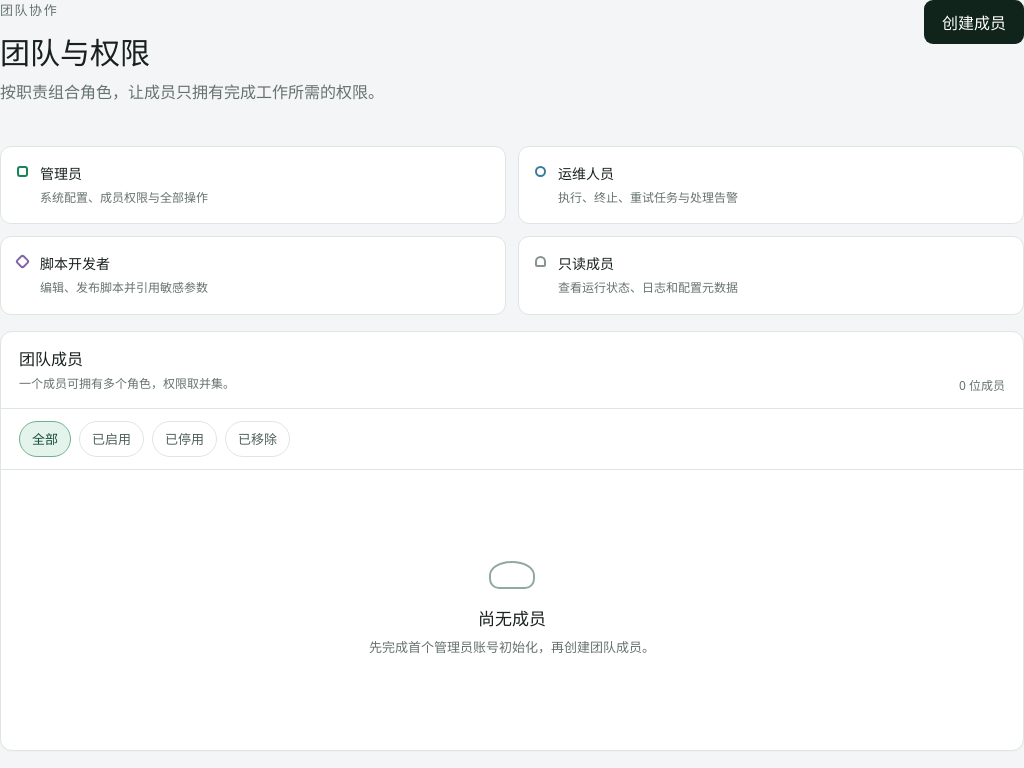
团队与权限 › 管理员创建成员后只显示一次临时密码并可复制
Click the button "创建成员": (974, 22) [924, 0, 1023, 44]
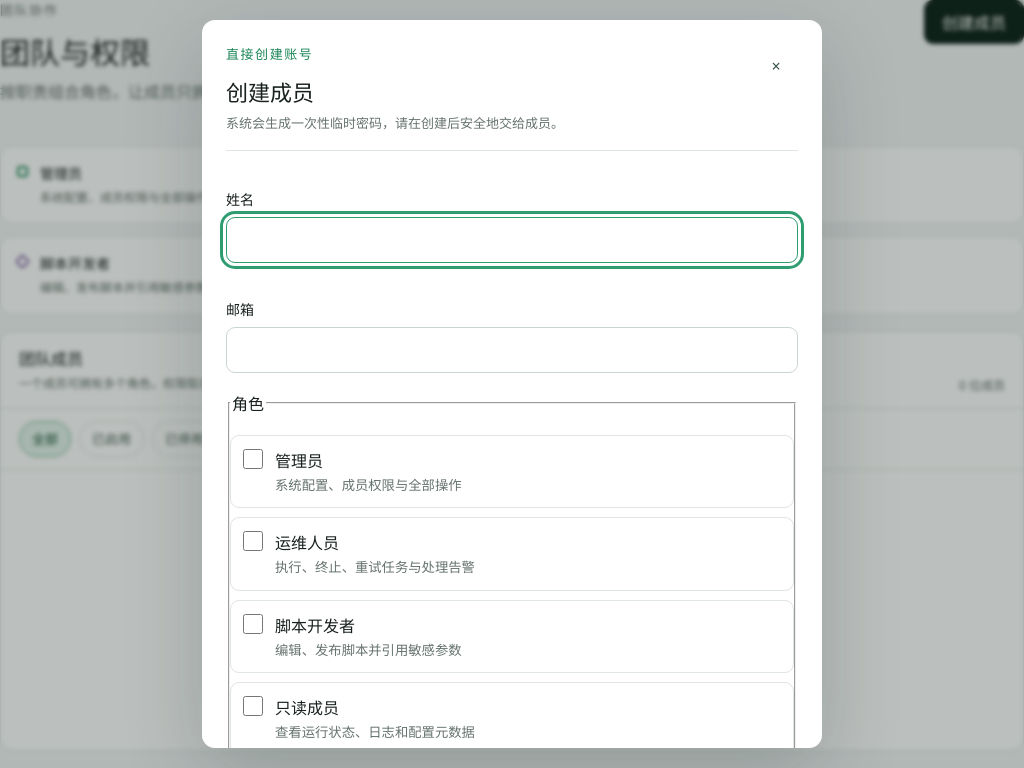
In the field labelled "姓名": (512, 240) [226, 217, 798, 263], type "值班运维"
In the field labelled "邮箱": (512, 350) [226, 327, 798, 373], type "ops@example.com"
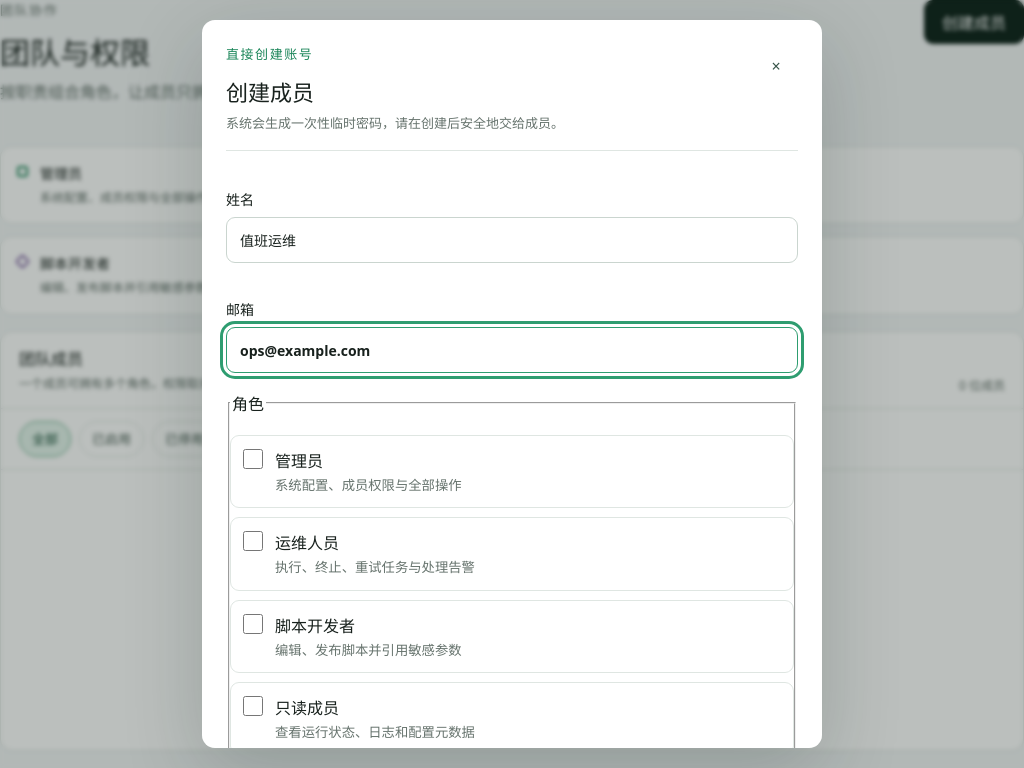
Click the checkbox labelled "运维人员": (253, 541) [243, 531, 263, 551]
(page scrolled)
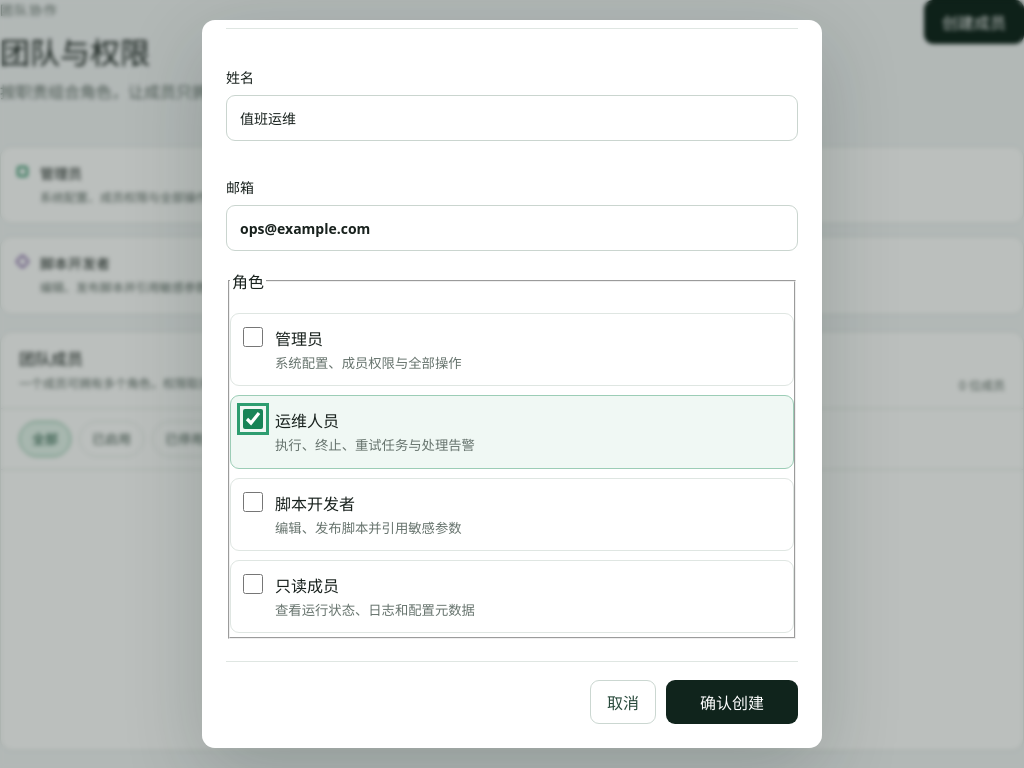
Click the button "确认创建": (732, 702) [666, 680, 798, 724]
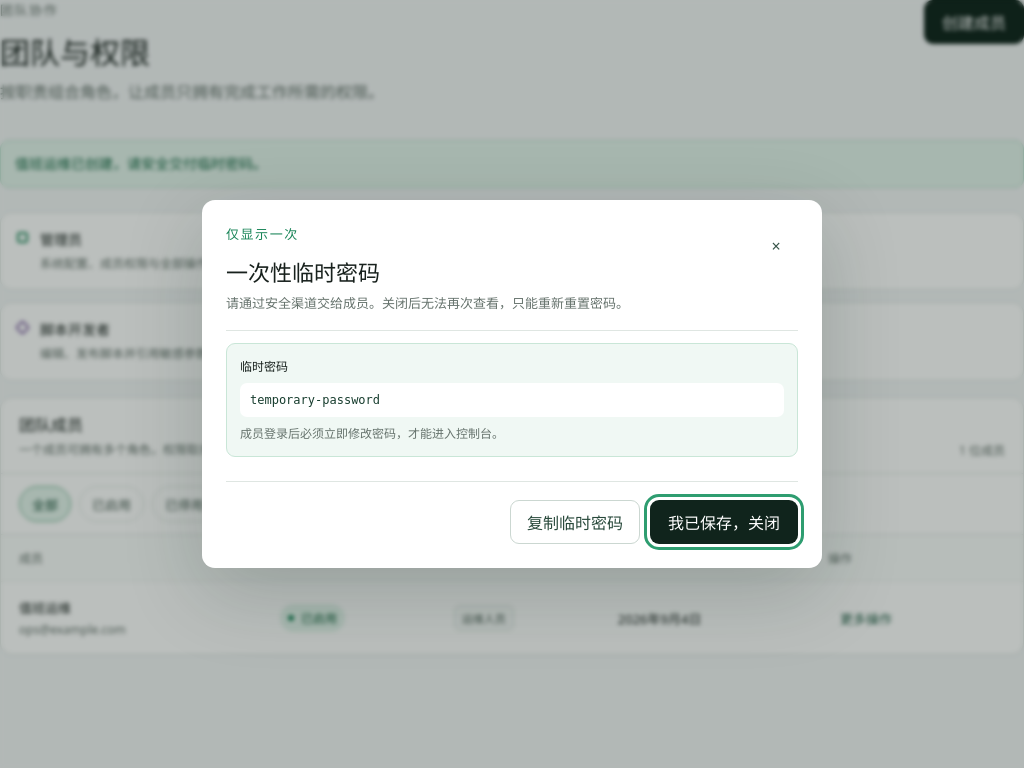
Result: the dialog "一次性临时密码" shows "temporary-password" at [250, 393, 380, 407]
Click the button "复制临时密码": (575, 522) [510, 500, 640, 544]
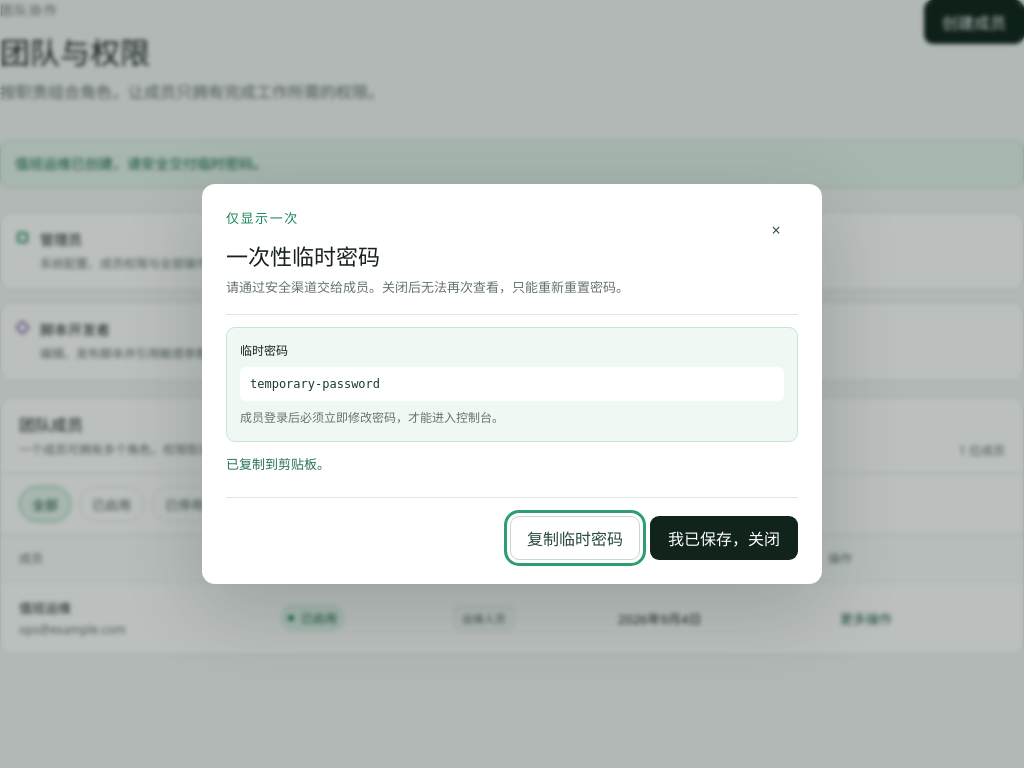
Click the button "我已保存，关闭": (724, 538) [650, 516, 798, 560]
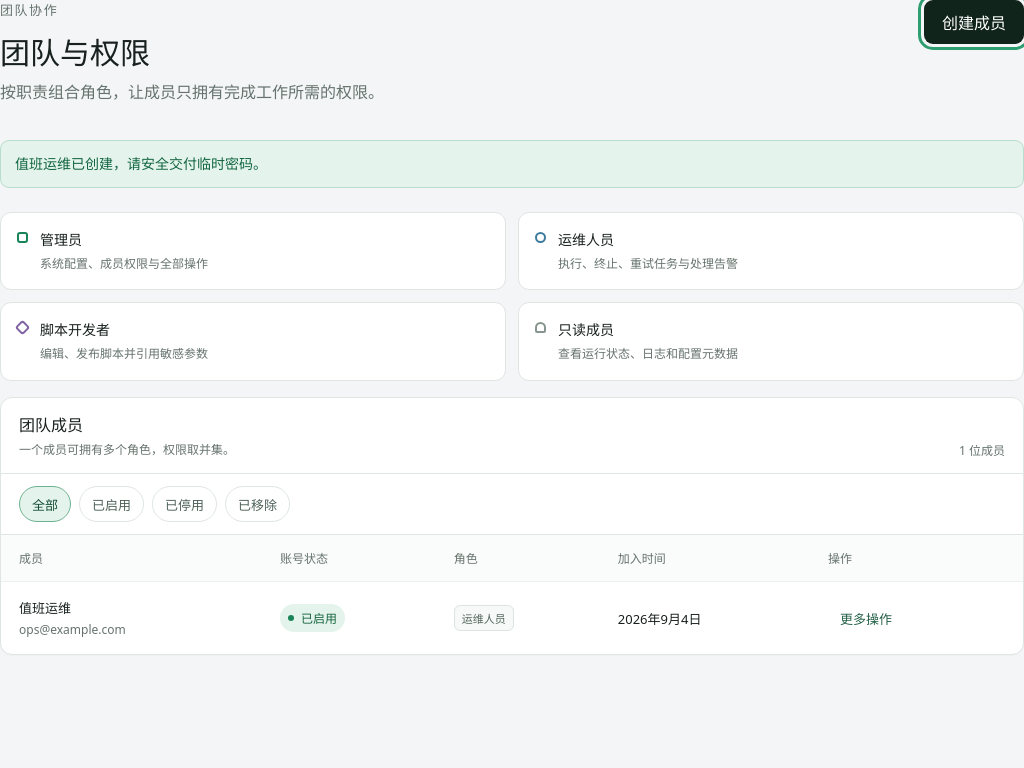
Result: the text "temporary-password" is gone
